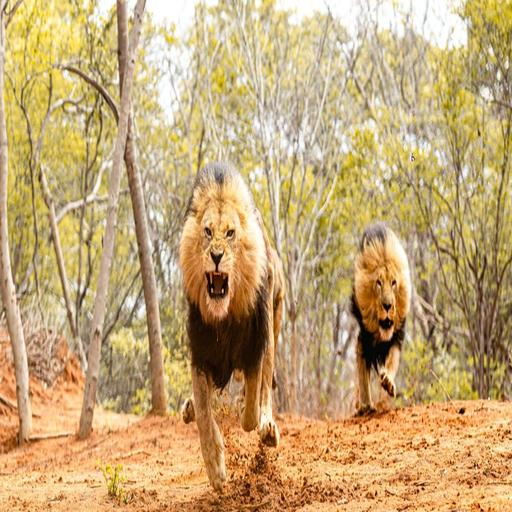Lion: (175, 148, 298, 502), (338, 207, 429, 432)
